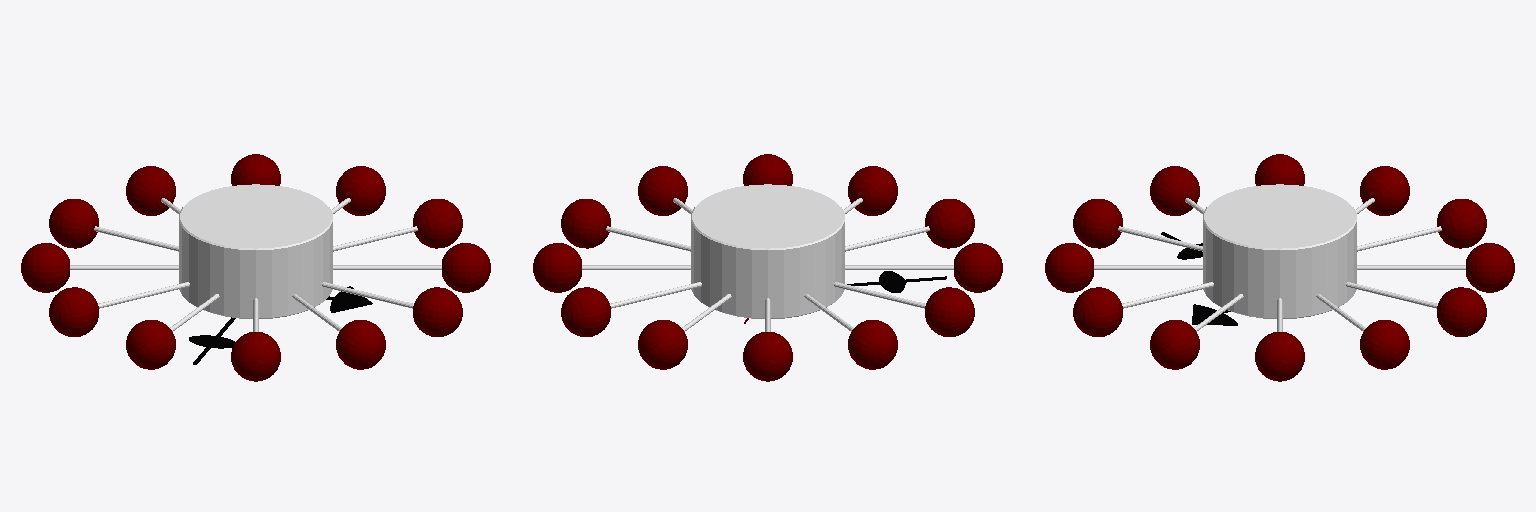
Rendered from vitra_ball_clock_mat(2).obj.
The picture shows the model from 3 angles: view 1: azimuth 30°, elevation 25°; view 2: azimuth 150°, elevation 25°; view 3: azimuth 270°, elevation 25°; orthographic projection.
Parts seen in each view (by area): view 1: vitra_ball_clock_mat2; view 2: vitra_ball_clock_mat2; view 3: vitra_ball_clock_mat2.
Boxes of the visible parts, x1,y1,x2,y2 form: vitra_ball_clock_mat2: [21, 154, 490, 381]; vitra_ball_clock_mat2: [533, 154, 1002, 381]; vitra_ball_clock_mat2: [1045, 154, 1514, 381].
Size of the model in its own units: 33.15 by 6.15 by 33.15.